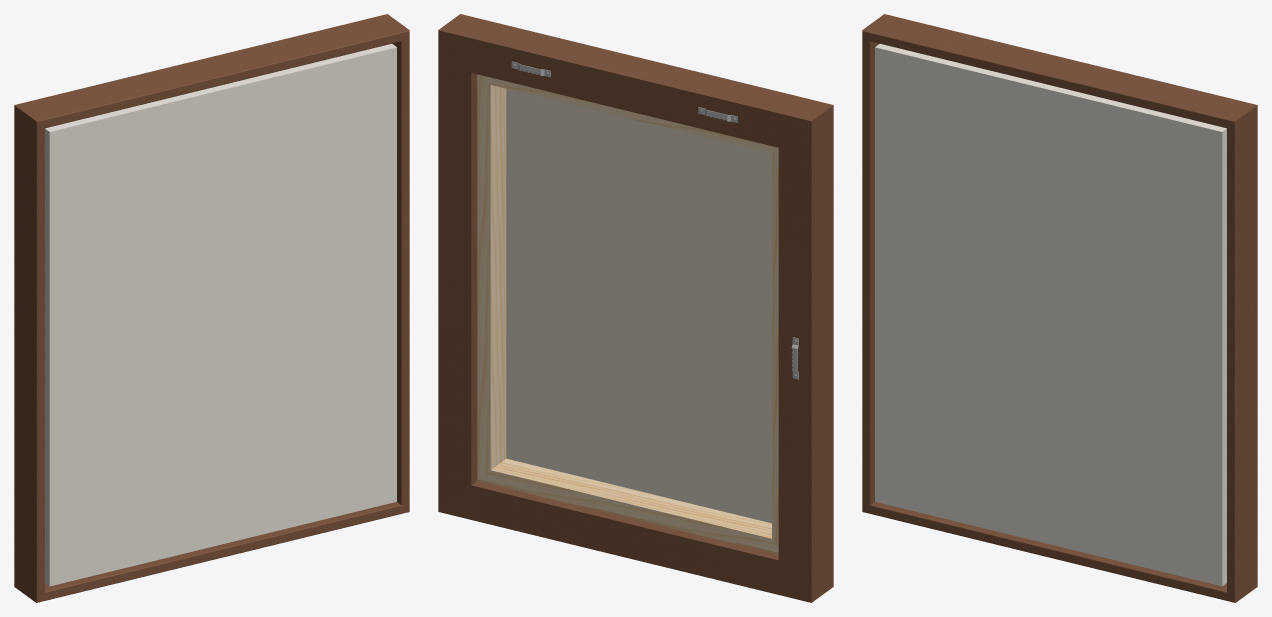
The model's file is delivery.glb.
3 renders of one model, left to right at view 1: azimuth 30°, elevation 25°; view 2: azimuth 150°, elevation 25°; view 3: azimuth 330°, elevation 25°, orthographic.
Visible parts, largest first — view 1: Canvas artwork front, Tray approved profile 0; view 2: Canvas linen reverse, Tray approved profile 0, Stretcher top, Sawtooth hanger 0; view 3: Canvas artwork front, Tray approved profile 0.
Part boxes in pixels (bbox=[...]): Canvas artwork front: bbox=[45, 44, 396, 586]; Tray approved profile 0: bbox=[14, 14, 409, 602]; Canvas linen reverse: bbox=[506, 88, 771, 523]; Tray approved profile 0: bbox=[438, 14, 833, 602]; Stretcher top: bbox=[477, 74, 778, 554]; Sawtooth hanger 0: bbox=[511, 61, 798, 379]; Canvas artwork front: bbox=[875, 44, 1226, 586]; Tray approved profile 0: bbox=[862, 14, 1257, 602].
Bounding box in the file's own units: 0.43 × 0.53 × 0.0474.
Materials: 7 (3 with a texture image).
